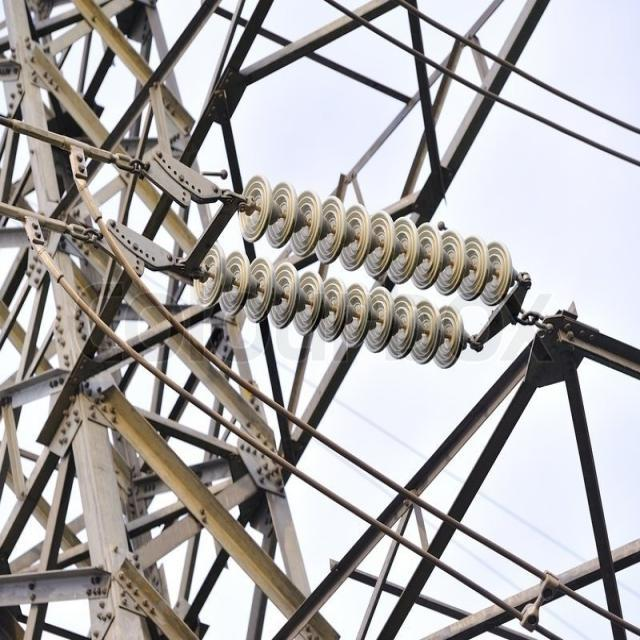non-critical vegetation: (2, 2, 634, 634)
